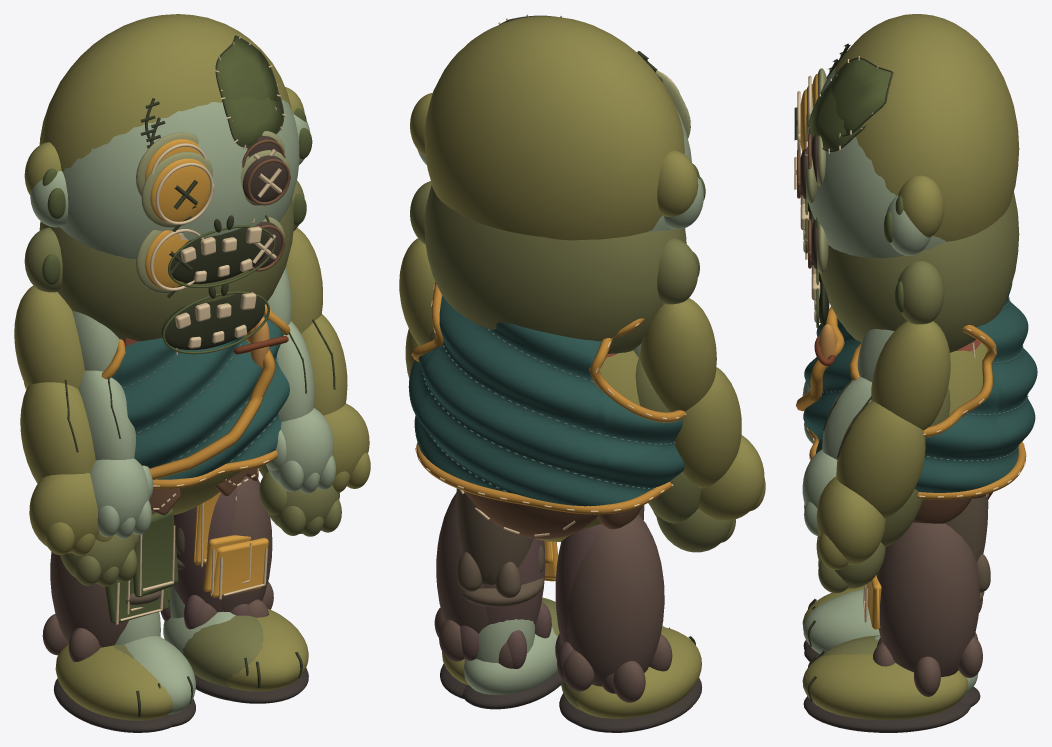
Rendered from walker-trio.glb.
The picture shows the model from 3 angles, left to right: view 1: azimuth 30°, elevation 25°; view 2: azimuth 150°, elevation 25°; view 3: azimuth 270°, elevation 25°; orthographic projection. The views are drawn at different scales.
Visible parts, largest first — view 1: leaper / Mesh / Head, heavy / Mesh / Head, Mesh / Head, Heavy / tailored short wrap, heavy / Mesh / ArmL, heavy / Mesh / LegL, heavy / Mesh / LegR, leaper / Mesh / ArmL, Mesh / LegR, heavy / Mesh / ArmR, leaper / Mesh / ArmR, leaper / Mesh / LegL (+8 smaller); view 2: heavy / Mesh / Head, Heavy / tailored short wrap, Mesh / Head, heavy / Mesh / LegL, heavy / Mesh / ArmL, leaper / Mesh / LegR, heavy / Mesh / LegR, Heavy / bound neck armholes and hem, Mesh / ArmL, Mesh / LegR, Mesh / LegL, Mesh / Body (+6 smaller); view 3: heavy / Mesh / Head, heavy / Mesh / LegR, heavy / Mesh / ArmR, Mesh / Head, Heavy / tailored short wrap, leaper / Mesh / Head, leaper / Mesh / ArmR, leaper / Mesh / LegL, Heavy / bound neck armholes and hem, Mesh / ArmR, leaper / Mesh / LegR, heavy / Mesh / Body (+5 smaller).
Part boxes in pixels (box(x1,y1,x2,y2)): leaper / Mesh / Head: box(30, 84, 312, 287); heavy / Mesh / Head: box(24, 14, 306, 240); Mesh / Head: box(24, 180, 306, 354); Heavy / tailored short wrap: box(111, 314, 289, 479); heavy / Mesh / ArmL: box(14, 285, 113, 555); heavy / Mesh / LegL: box(42, 552, 172, 732); heavy / Mesh / LegR: box(197, 476, 308, 703); leaper / Mesh / ArmL: box(72, 310, 153, 538); Mesh / LegR: box(160, 486, 263, 700); heavy / Mesh / ArmR: box(286, 228, 370, 492); leaper / Mesh / ArmR: box(266, 267, 335, 493); leaper / Mesh / LegL: box(124, 508, 195, 726); heavy / Mesh / Head: box(410, 14, 699, 240); Heavy / tailored short wrap: box(408, 295, 684, 506); Mesh / Head: box(410, 181, 699, 353); heavy / Mesh / LegL: box(563, 514, 701, 732); heavy / Mesh / ArmL: box(640, 298, 765, 520); leaper / Mesh / LegR: box(456, 488, 560, 709); heavy / Mesh / LegR: box(434, 493, 555, 698); Heavy / bound neck armholes and hem: box(412, 282, 685, 514); Mesh / ArmL: box(635, 357, 735, 552); Mesh / LegR: box(460, 538, 561, 685); Mesh / LegL: box(555, 524, 615, 723); Mesh / Body: box(463, 491, 642, 539); heavy / Mesh / Head: box(805, 14, 1019, 241); heavy / Mesh / LegR: box(802, 522, 982, 732); heavy / Mesh / ArmR: box(816, 321, 950, 569); Mesh / Head: box(805, 192, 1019, 352); Heavy / tailored short wrap: box(803, 283, 1037, 492); leaper / Mesh / Head: box(794, 59, 945, 258); leaper / Mesh / ArmR: box(802, 329, 894, 535); leaper / Mesh / LegL: box(803, 589, 879, 661); Heavy / bound neck armholes and hem: box(807, 325, 1026, 499); Mesh / ArmR: box(816, 387, 950, 593); leaper / Mesh / LegR: box(875, 496, 990, 706); heavy / Mesh / Body: box(922, 343, 987, 501).
Size of the model in its own units: 1.22 by 2.32 by 0.7741.
